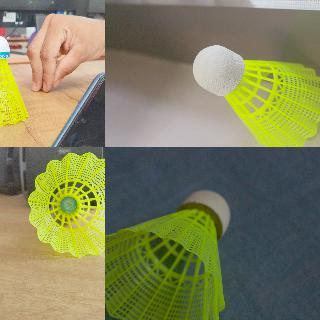shuttlecock: (105, 189, 231, 319), (192, 45, 319, 146), (29, 151, 104, 257), (0, 34, 27, 125)
